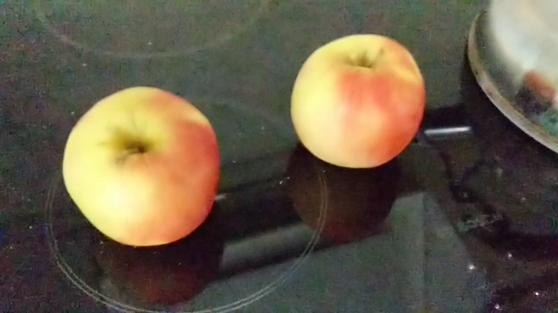apple: (62, 81, 220, 244), (290, 32, 426, 168)
